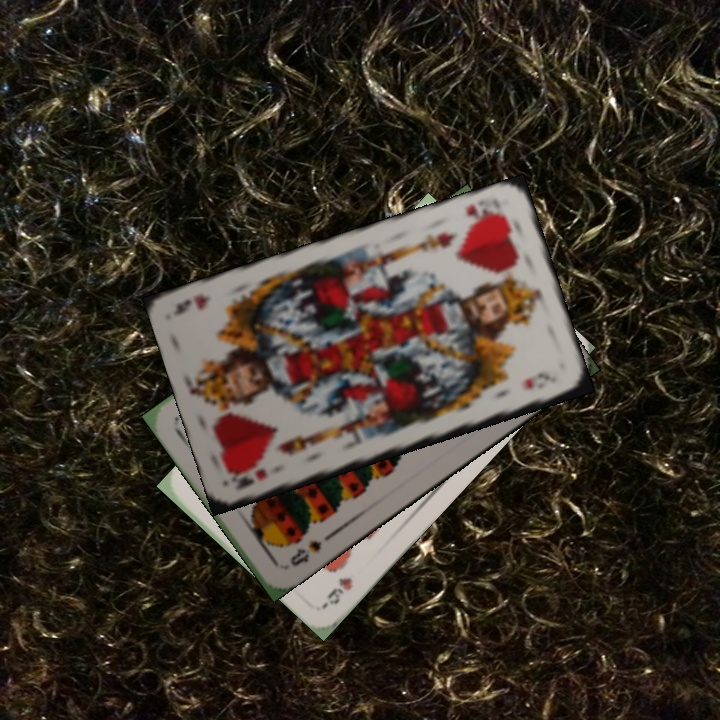H9: (320, 573, 355, 608)
HK: (462, 200, 507, 228), (230, 464, 270, 493)
S8: (286, 536, 325, 570)
